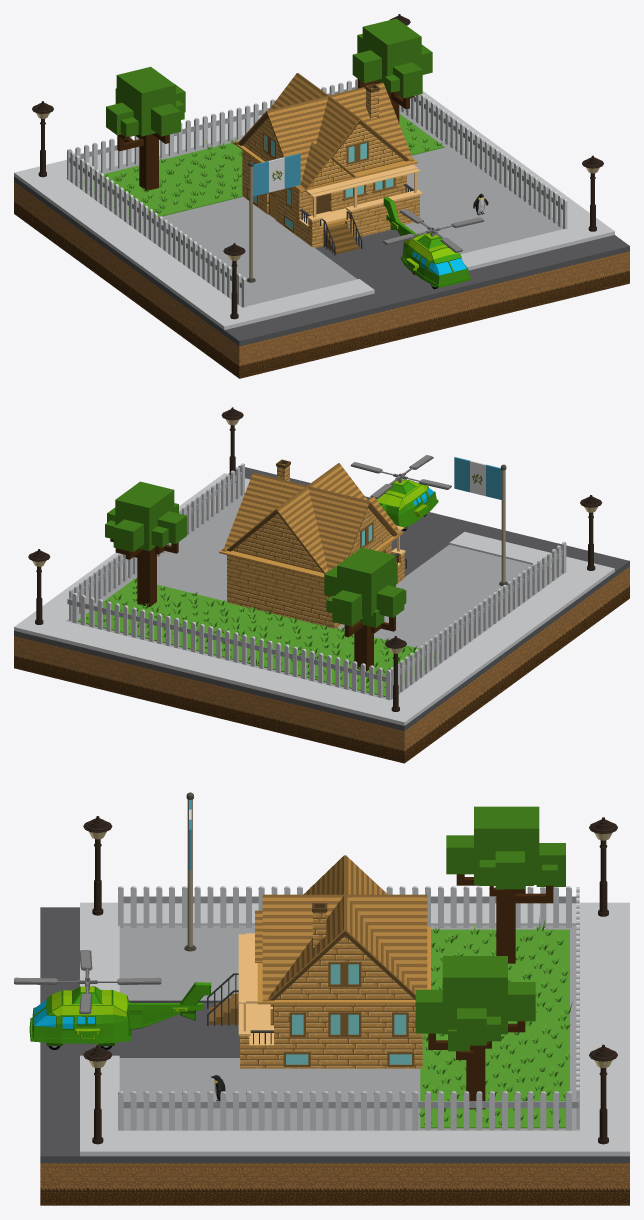
The picture shows the model from 3 angles, top to bottom: view 1: azimuth 30°, elevation 25°; view 2: azimuth 150°, elevation 25°; view 3: azimuth 270°, elevation 25°; orthographic projection. The views are drawn at different scales.
Parts seen in each view (by area): view 1: Cube.004, Cube.508, VEHICLES_HELICOPTER, OBJRANDOM_GUATEMALAN_FLAG; view 2: Cube.004, Cube.508, VEHICLES_HELICOPTER, OBJRANDOM_GUATEMALAN_FLAG; view 3: Cube.004, Cube.508, VEHICLES_HELICOPTER, OBJRANDOM_GUATEMALAN_FLAG.
Part boxes in pixels (x1,y1,x2,y2): Cube.004: (14, 14, 629, 378); Cube.508: (233, 73, 422, 255); VEHICLES_HELICOPTER: (383, 197, 484, 289); OBJRANDOM_GUATEMALAN_FLAG: (246, 153, 300, 282); Cube.004: (14, 407, 629, 763); Cube.508: (219, 459, 406, 628); VEHICLES_HELICOPTER: (350, 455, 451, 531); OBJRANDOM_GUATEMALAN_FLAG: (454, 457, 507, 585); Cube.004: (40, 806, 629, 1205); Cube.508: (207, 855, 430, 1068); VEHICLES_HELICOPTER: (14, 950, 211, 1049); OBJRANDOM_GUATEMALAN_FLAG: (184, 792, 196, 951).
Size of the model in its own units: 4000 by 1653 by 4179.
38 materials, 5 textured.
